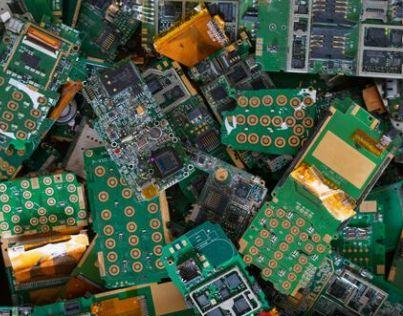electronic: (241, 104, 396, 295), (83, 58, 195, 197), (2, 18, 85, 172), (254, 0, 401, 79), (161, 224, 270, 315), (186, 43, 274, 130), (1, 229, 95, 308), (147, 0, 240, 52), (73, 2, 138, 63), (310, 0, 361, 27), (18, 0, 58, 28), (350, 129, 387, 157), (362, 0, 402, 24), (157, 1, 184, 35)
